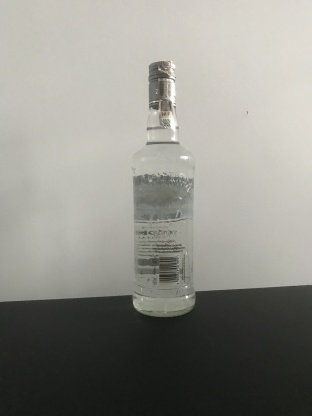nakretka: (146, 59, 177, 110)
